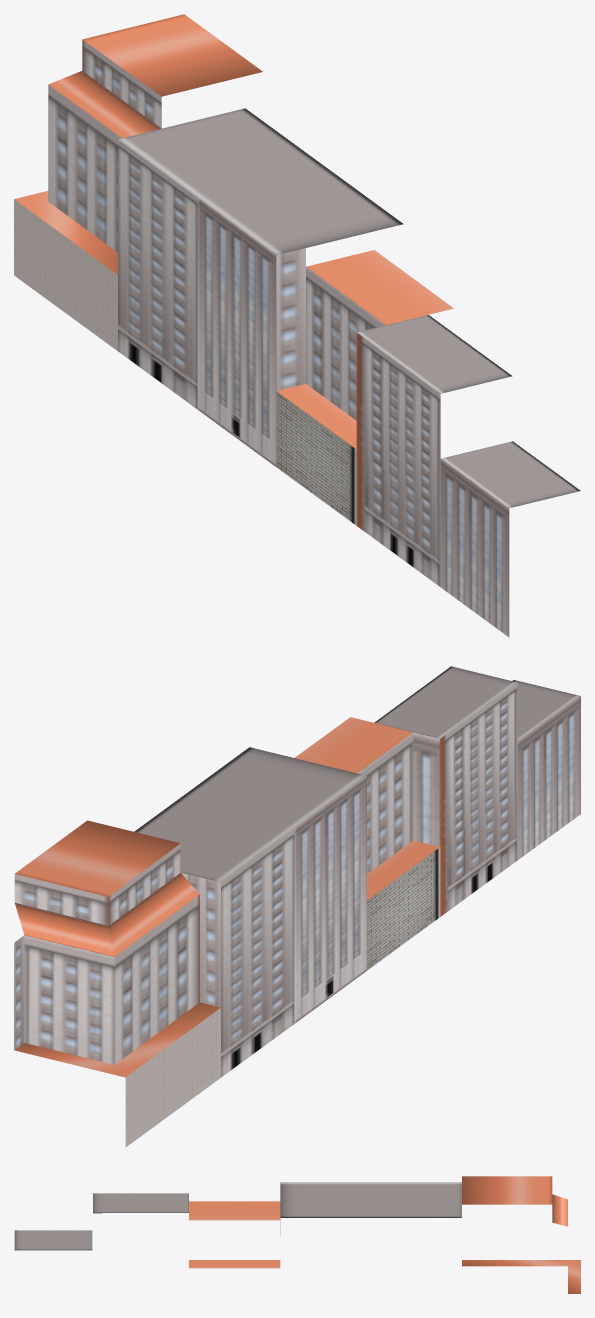
The picture shows the model from 3 angles, top to bottom: view 1: azimuth 30°, elevation 25°; view 2: azimuth 150°, elevation 25°; view 3: azimuth 270°, elevation 25°; orthographic projection. The views are drawn at different scales.
Parts seen in each view (by area): view 1: Object01; view 2: Object01; view 3: Object01.
Part boxes in pixels (x1,y1,x2,y2): Object01: [14, 14, 580, 637]; Object01: [14, 666, 580, 1147]; Object01: [14, 1176, 580, 1293].
Bounding box in the file's own units: 1645 × 2638 × 9701.
5 materials, 5 textured.
